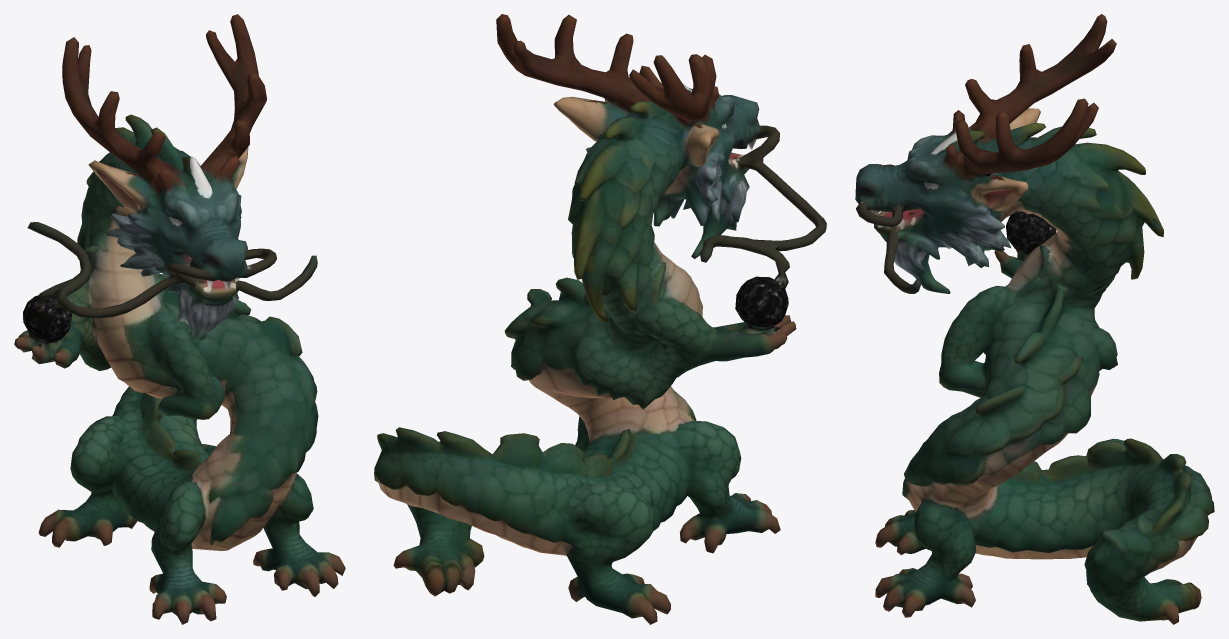
The model's file is detail_14_lo.glb.
The picture shows the model from 3 angles, left to right: view 1: azimuth 30°, elevation 25°; view 2: azimuth 150°, elevation 25°; view 3: azimuth 270°, elevation 25°; orthographic projection. The views are drawn at different scales.
Parts seen in each view (by area): view 1: Mesh_0.001; view 2: Mesh_0.001; view 3: Mesh_0.001.
Boxes of the visible parts, bbox=[...] form: Mesh_0.001: bbox=[14, 14, 345, 624]; Mesh_0.001: bbox=[374, 14, 826, 624]; Mesh_0.001: bbox=[855, 14, 1214, 624].
Bounding box in the file's own units: 0.6571 × 0.9923 × 0.62.
Materials: 1 (1 with a texture image).
